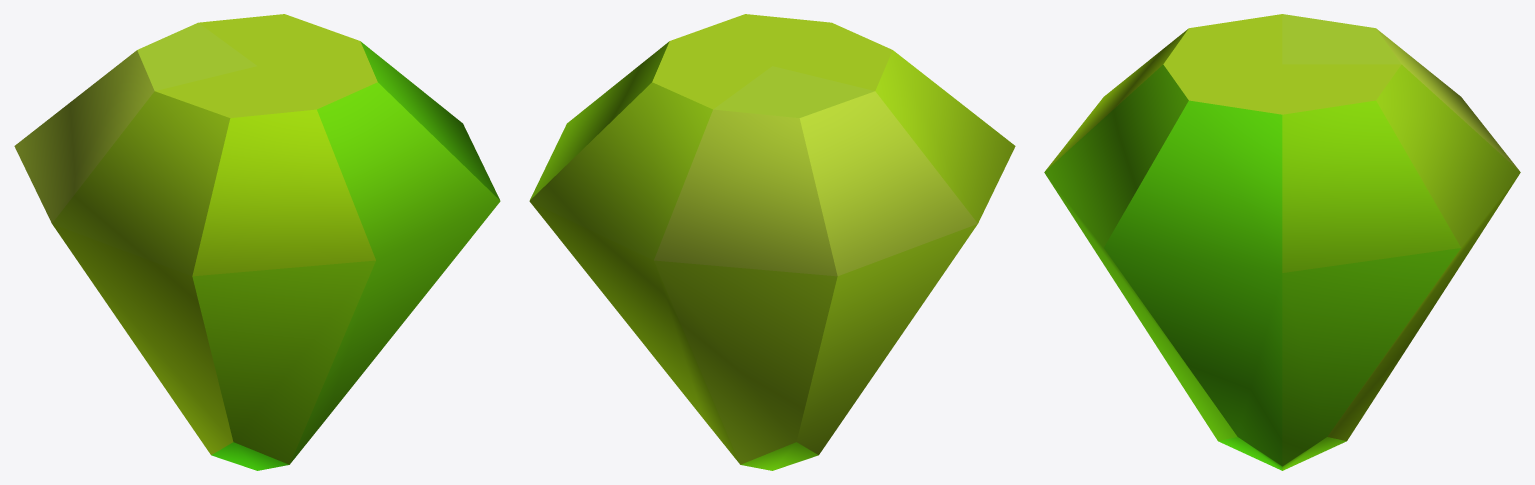
File: gem_green.dae
3 renders of one model, left to right at view 1: azimuth 30°, elevation 25°; view 2: azimuth 150°, elevation 25°; view 3: azimuth 270°, elevation 25°, orthographic.
Visible parts, largest first — view 1: gem_green_MSH; view 2: gem_green_MSH; view 3: gem_green_MSH.
Part boxes in pixels (x1=…): gem_green_MSH: x1=14, y1=14, x2=500, y2=470; gem_green_MSH: x1=529, y1=14, x2=1015, y2=470; gem_green_MSH: x1=1044, y1=14, x2=1520, y2=470.
Bounding box in the file's own units: 0.375 × 0.3529 × 0.375.
